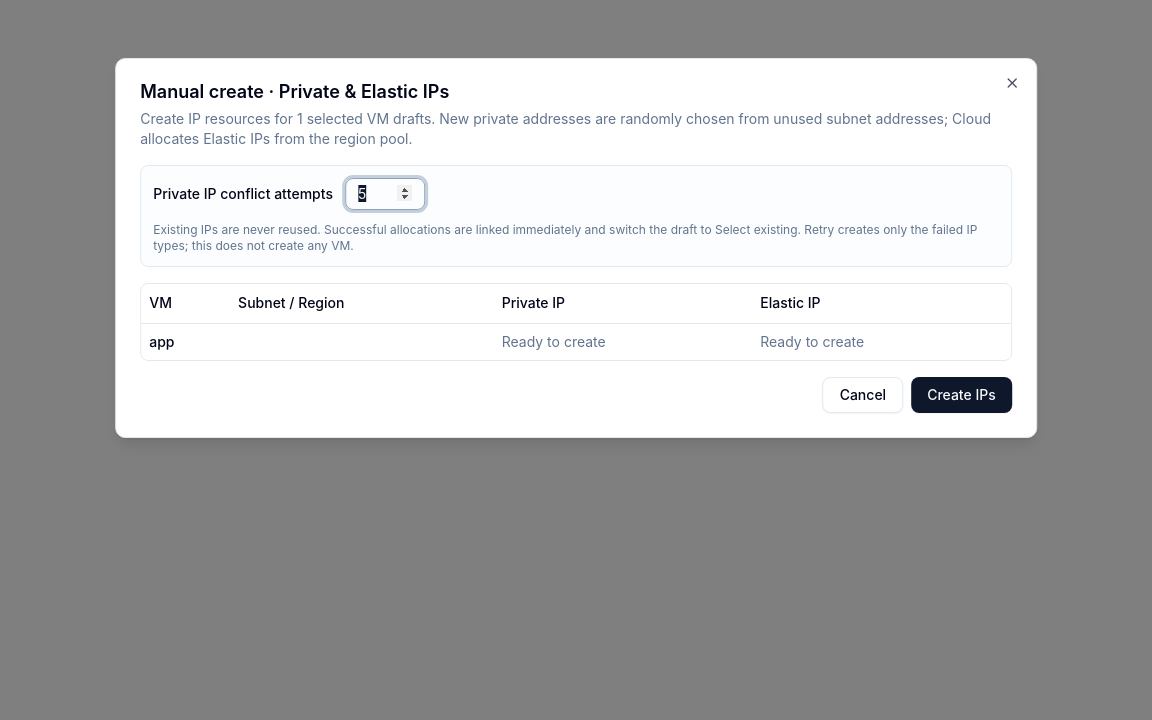
Test: links partial successes immediately and retries only the failed allocation type
Click the button "Create IPs". click: (961, 395)
box: top-left (911, 377), bottom-right (1012, 413)
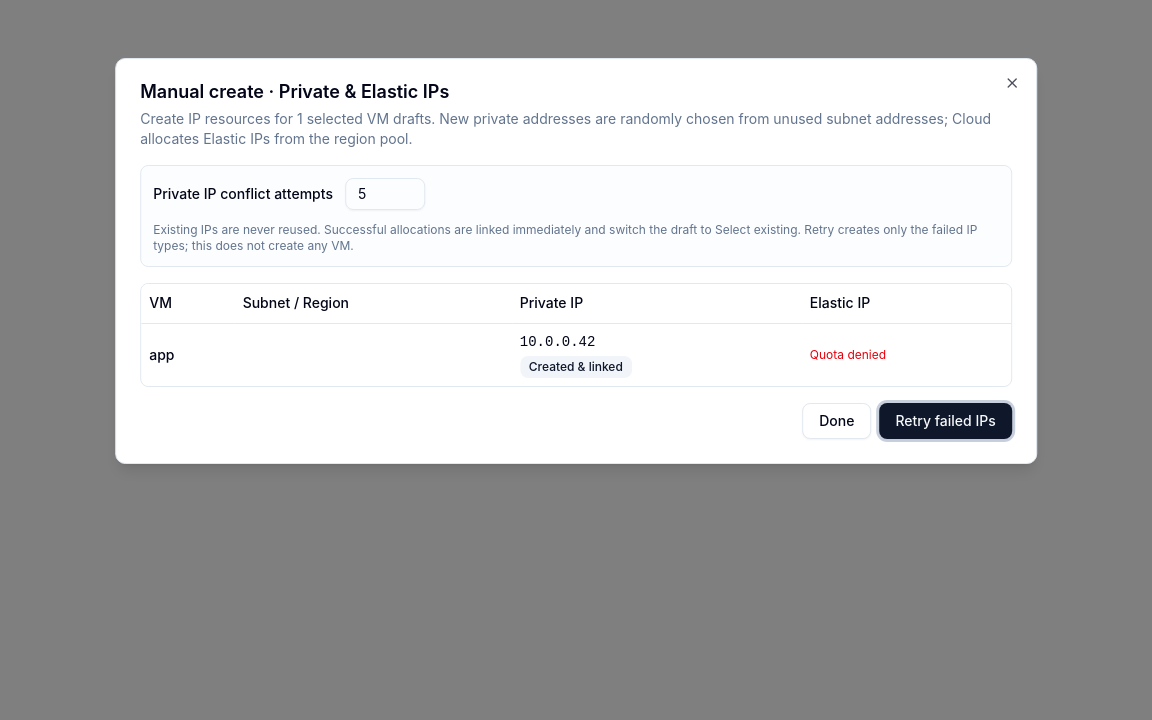
Result: the text "10.0.0.42" is shown at top-left (520, 334), bottom-right (595, 350)
Click the button "Retry failed IPs". click: (946, 421)
box: top-left (880, 403), bottom-right (1012, 439)
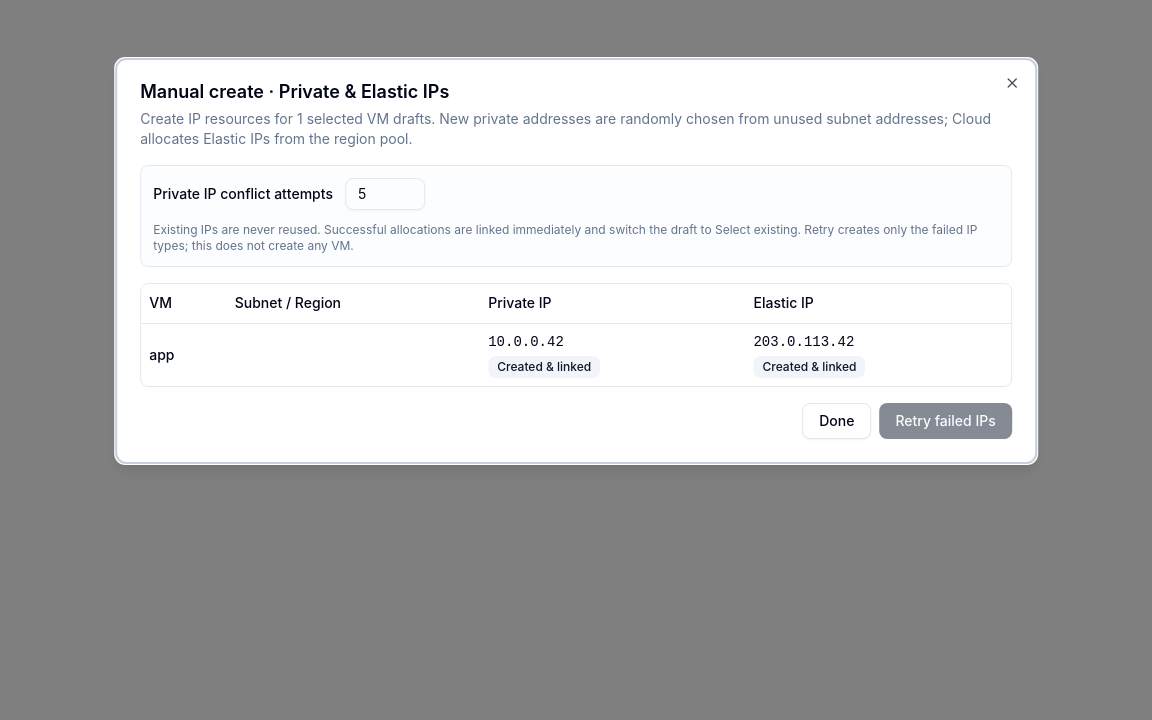
Result: the text "203.0.113.42" is shown at top-left (754, 334), bottom-right (854, 350)
Result: the button "Retry failed IPs" is disabled at top-left (880, 403), bottom-right (1012, 439)
